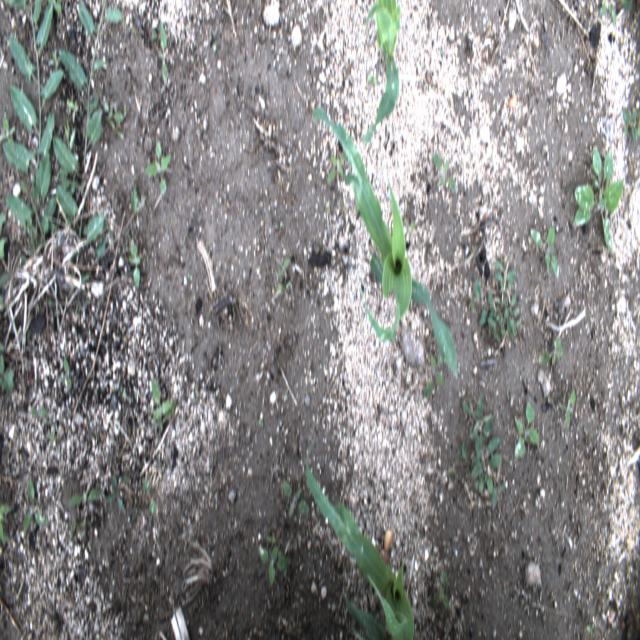crop: (312, 105, 458, 377), (362, 0, 402, 143)
weed: (52, 1, 124, 288), (304, 461, 414, 639), (3, 0, 66, 248), (572, 146, 624, 252), (462, 391, 507, 508), (474, 256, 523, 342), (22, 476, 48, 536), (150, 377, 178, 432), (529, 223, 558, 275), (144, 140, 172, 192), (515, 401, 540, 459), (260, 544, 290, 587), (424, 348, 446, 399), (155, 19, 170, 92), (428, 569, 451, 613), (282, 481, 310, 517), (0, 338, 16, 400), (432, 152, 456, 192), (104, 473, 127, 511), (538, 336, 564, 367), (128, 237, 142, 288), (622, 104, 640, 142), (68, 488, 102, 508), (328, 150, 348, 184), (0, 500, 13, 546), (142, 480, 158, 516), (0, 113, 16, 149), (100, 100, 124, 122), (130, 186, 147, 216), (564, 386, 575, 430), (0, 210, 9, 262), (68, 516, 88, 538), (62, 355, 74, 390), (599, 0, 616, 24), (107, 118, 125, 140), (48, 49, 63, 74), (66, 98, 80, 124), (0, 270, 14, 292), (31, 404, 48, 421), (278, 257, 288, 283), (49, 425, 60, 445), (619, 0, 634, 11), (194, 385, 200, 408), (586, 624, 596, 636), (0, 294, 7, 310), (284, 278, 292, 292), (368, 75, 378, 86), (409, 219, 417, 232), (265, 534, 277, 542), (258, 417, 264, 429), (186, 273, 193, 283), (582, 426, 588, 436)
